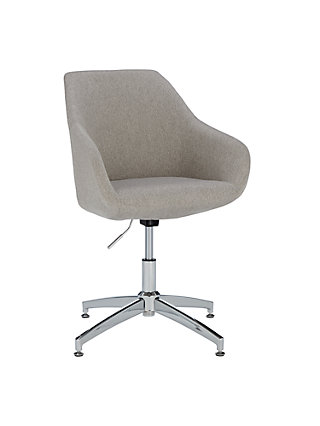chairs: (58, 68, 252, 362)
